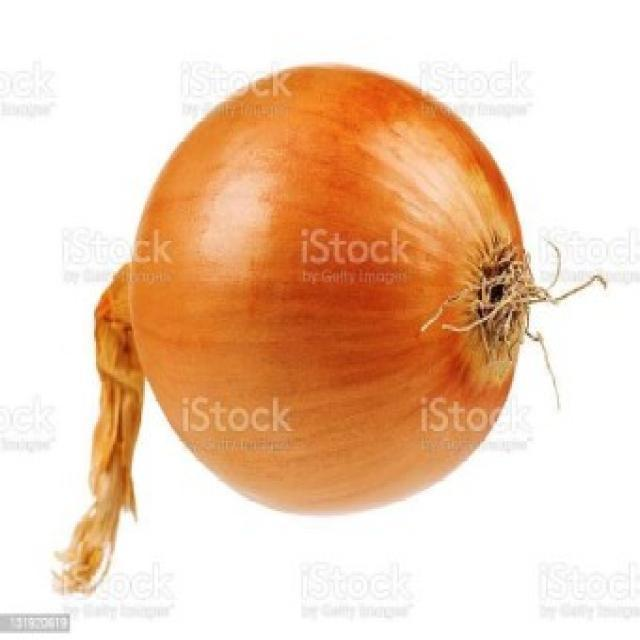Onion: (92, 54, 624, 532)
